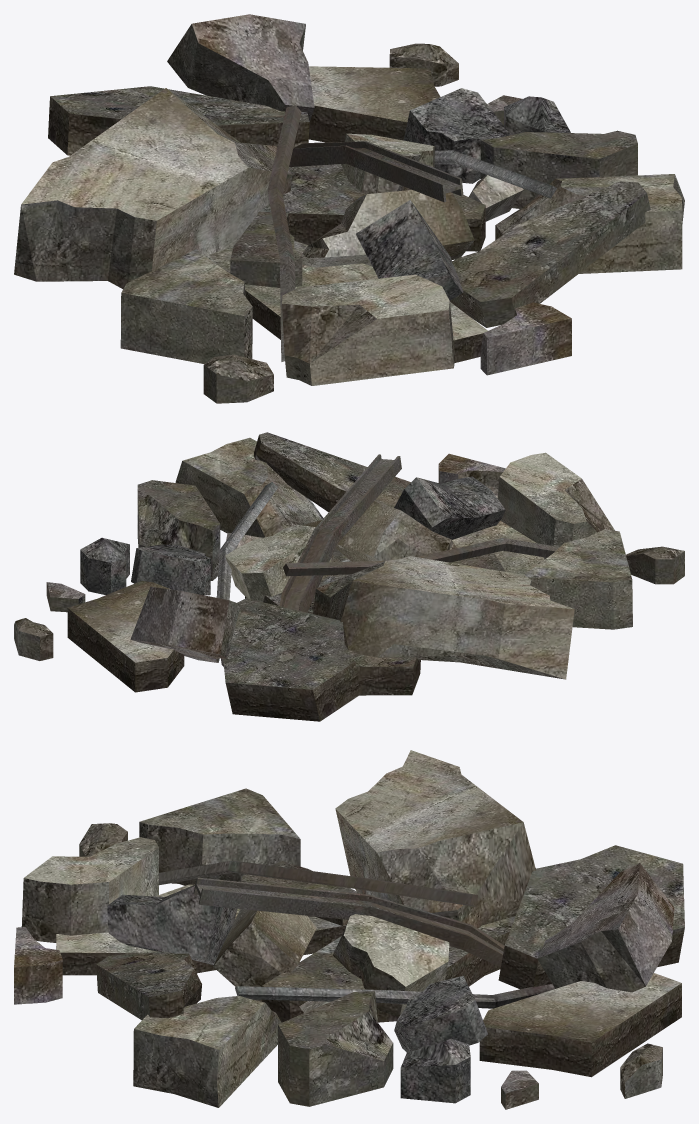
The model's file is concrete_debris128pile001a.glb.
The picture shows the model from 3 angles, top to bottom: view 1: azimuth 30°, elevation 25°; view 2: azimuth 150°, elevation 25°; view 3: azimuth 270°, elevation 25°; orthographic projection. The views are drawn at different scales.
Parts seen in each view (by area): view 1: 0_composite_debris; view 2: 0_composite_debris; view 3: 0_composite_debris.
Part boxes in pixels (x1,y1,x2,y2): 0_composite_debris: (14,14,684,403); 0_composite_debris: (14,432,684,721); 0_composite_debris: (14,750,684,1109).
Bounding box in the file's own units: 3.1 × 0.5973 × 3.22.
Materials: 1 (1 with a texture image).
